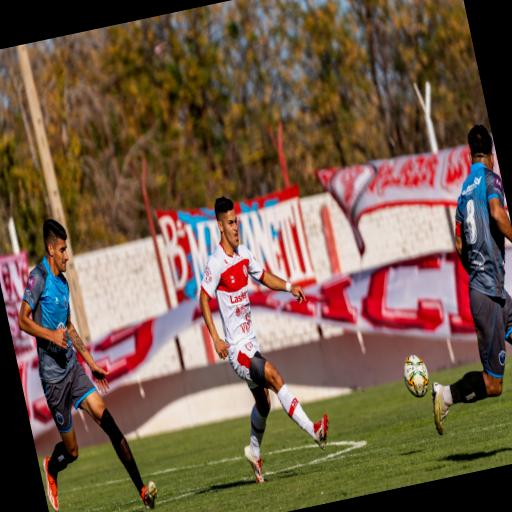shoe: (432, 383, 449, 435), (44, 457, 59, 511), (244, 446, 264, 483), (314, 415, 328, 450), (141, 481, 157, 510)
